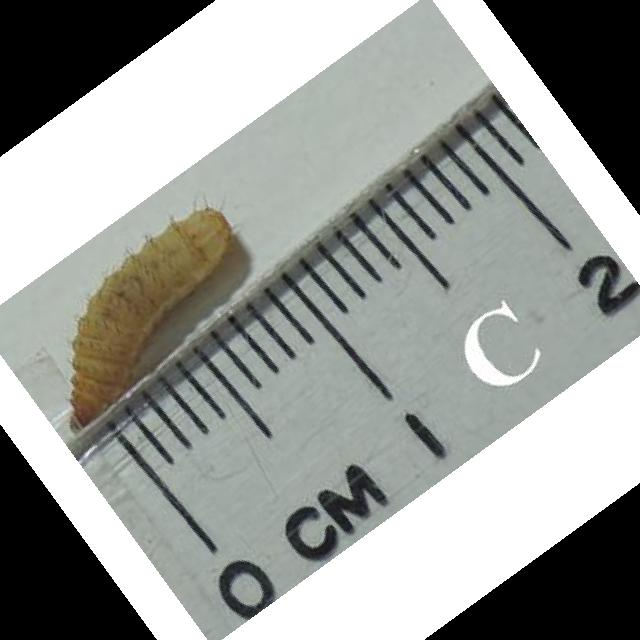Maggot: (63, 205, 237, 434)
